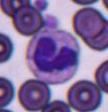N: (25, 28, 80, 84)
